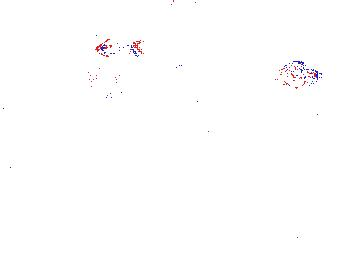X-ray fish: (268, 59, 308, 93), (283, 66, 322, 93)
glassfish: (222, 102, 328, 169)
redtail glassfish: (63, 51, 137, 103), (130, 53, 185, 110), (93, 30, 140, 60)
